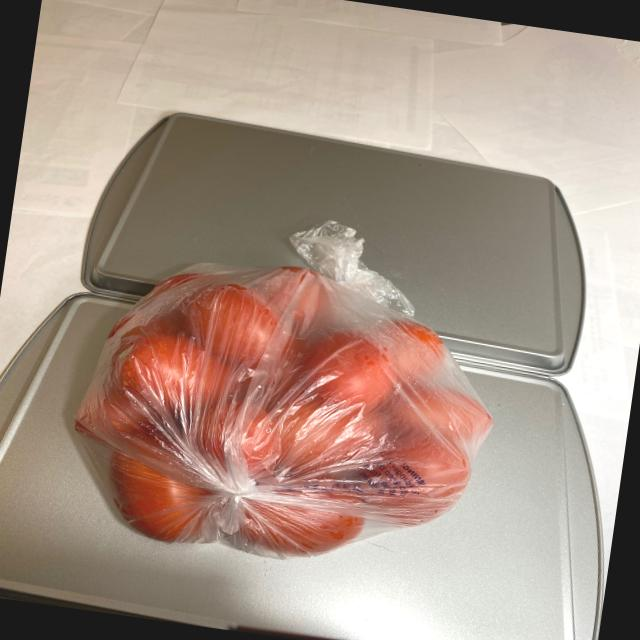tomato: (66, 248, 504, 576)
